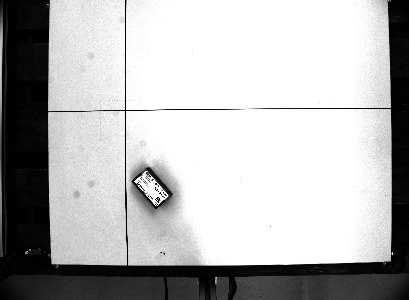b3: (129, 165, 173, 210)
